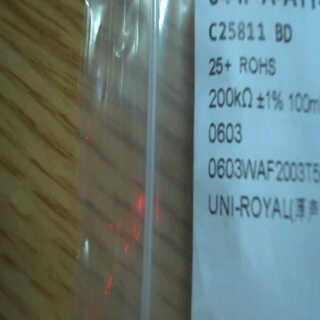200kR: (204, 83, 257, 111)
